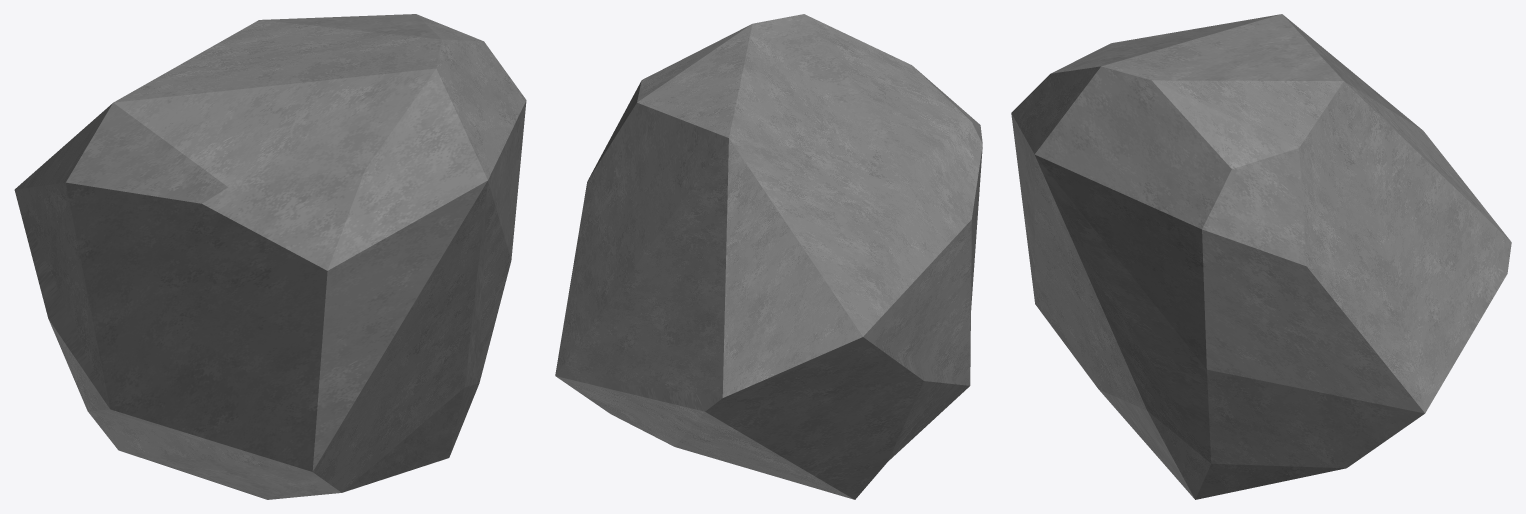
File: Rock_8.fbx
The picture shows the model from 3 angles, left to right: view 1: azimuth 30°, elevation 25°; view 2: azimuth 150°, elevation 25°; view 3: azimuth 270°, elevation 25°; orthographic projection. The views are drawn at different scales.
Parts seen in each view (by area): view 1: Sphere.018; view 2: Sphere.018; view 3: Sphere.018.
Part boxes in pixels (box(x1,y1,x2,y2)): Sphere.018: box(14, 14, 526, 499); Sphere.018: box(555, 14, 982, 499); Sphere.018: box(1011, 14, 1511, 499).
Bounding box in the file's own units: 156 × 157 × 172.
